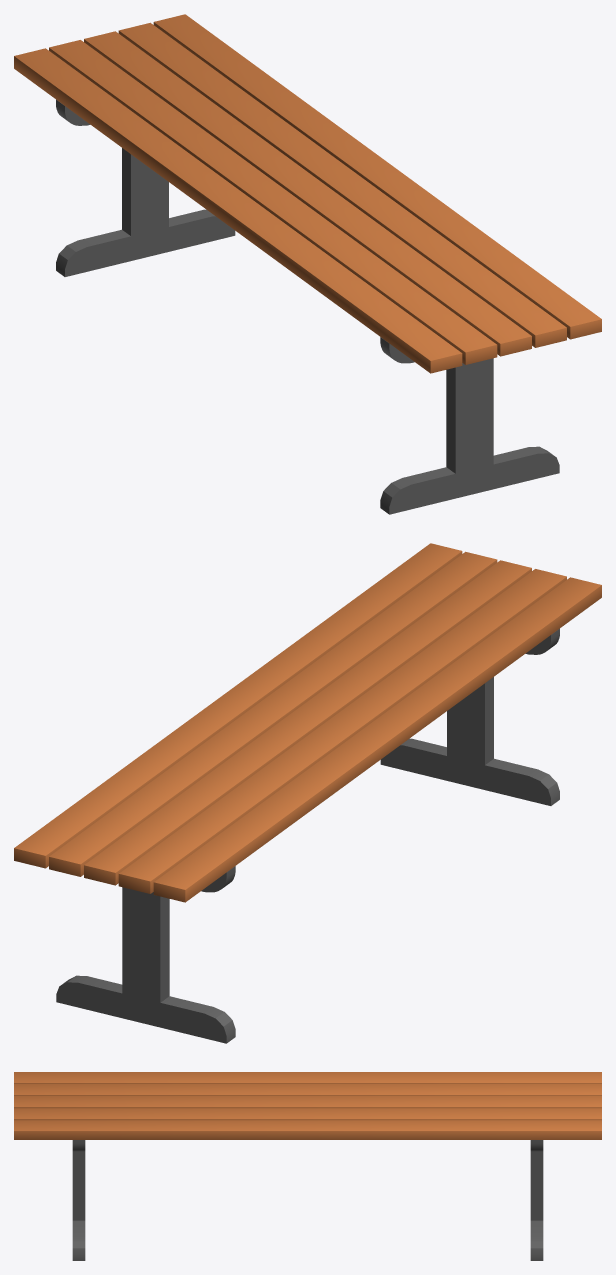
Rendered from basket_seat.dae.
3 views of the same model, one above another, from view 1: azimuth 30°, elevation 25°; view 2: azimuth 150°, elevation 25°; view 3: azimuth 270°, elevation 25° (orthographic). The views are drawn at different scales.
Parts seen in each view (by area): view 1: Cube.002; view 2: Cube.002; view 3: Cube.002.
Part boxes in pixels (<box>): Cube.002: <box>14,14,601,514</box>; Cube.002: <box>14,543,601,1043</box>; Cube.002: <box>14,1072,601,1260</box>.
Size of the model in its own units: 0.8179 by 3.44 by 0.8403.
